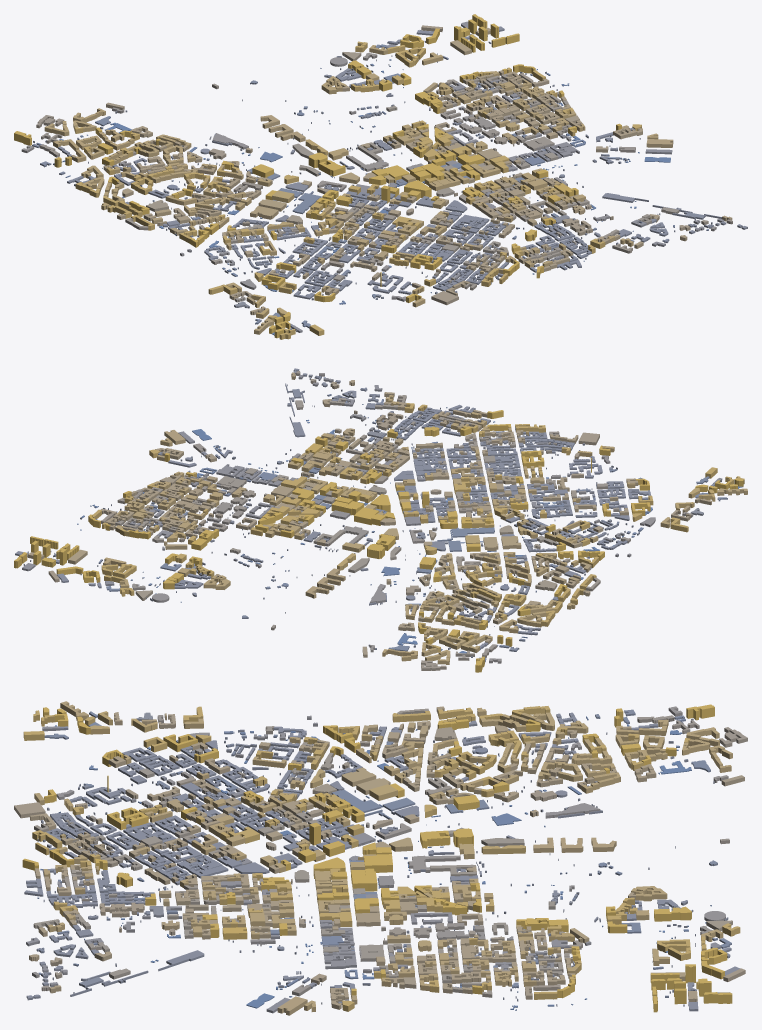
The model's file is buildings.glb.
3 renders of one model, top to bottom at view 1: azimuth 30°, elevation 25°; view 2: azimuth 150°, elevation 25°; view 3: azimuth 270°, elevation 25°, orthographic. The views are drawn at different scales.
Parts seen in each view (by area): view 1: buildings; view 2: buildings; view 3: buildings.
Part boxes in pixels (<box>): buildings: <box>14,14,747,339</box>; buildings: <box>14,368,747,672</box>; buildings: <box>14,701,747,1015</box>.
Bounding box in the file's own units: 2579 × 99.47 × 2565.
